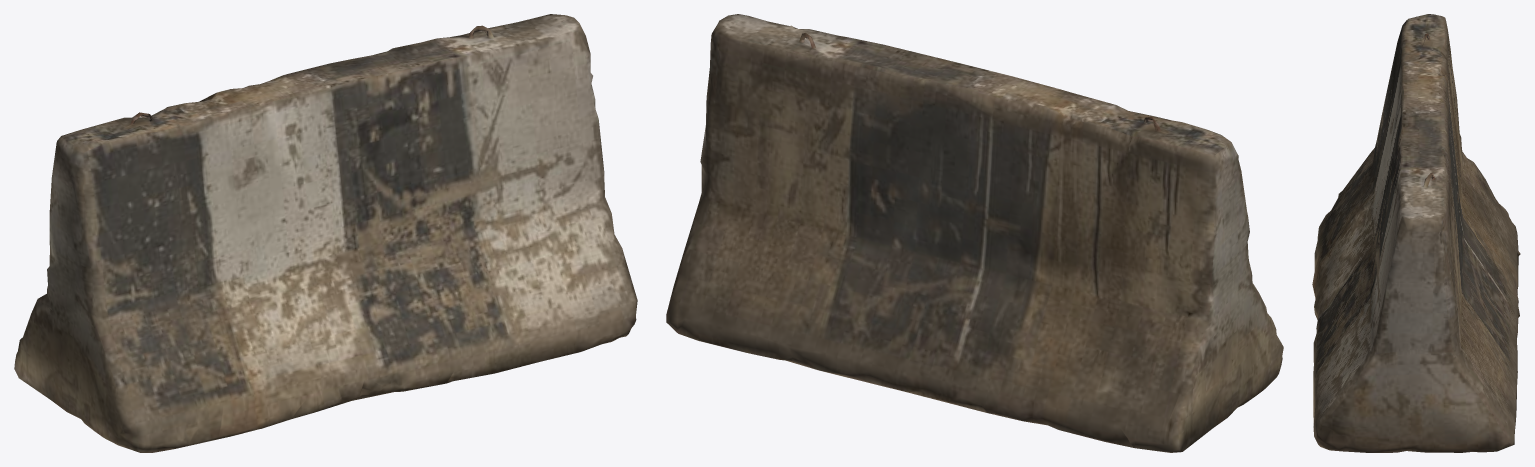
File: concrete_road_barrier.glb
3 views of the same model, side by side, from view 1: azimuth 30°, elevation 25°; view 2: azimuth 150°, elevation 25°; view 3: azimuth 270°, elevation 25° (orthographic). The views are drawn at different scales.
Parts seen in each view (by area): view 1: concrete_road_barrier; view 2: concrete_road_barrier; view 3: concrete_road_barrier.
Boxes of the visible parts, x1,y1,x2,y2 form: concrete_road_barrier: (14,14,637,452); concrete_road_barrier: (666,14,1283,452); concrete_road_barrier: (1312,14,1520,452).
Size of the model in its own units: 1.54 by 0.8304 by 0.6387.
1 material, 1 textured.
